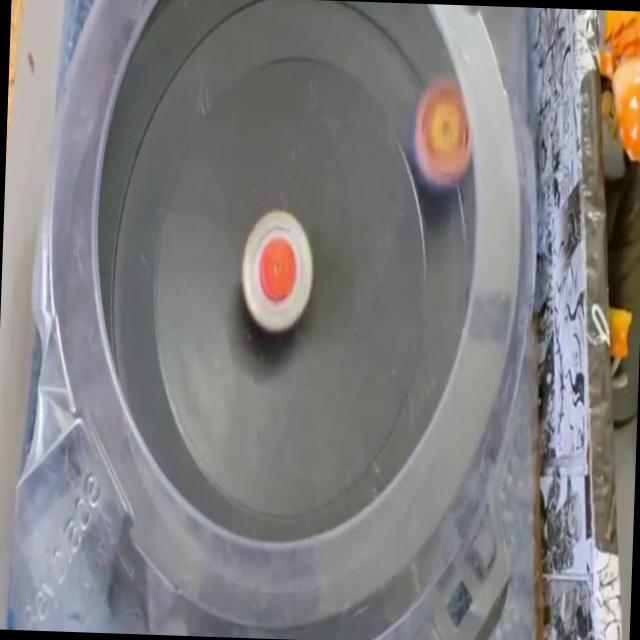Beyblade: (240, 210, 314, 334), (405, 73, 473, 201)
